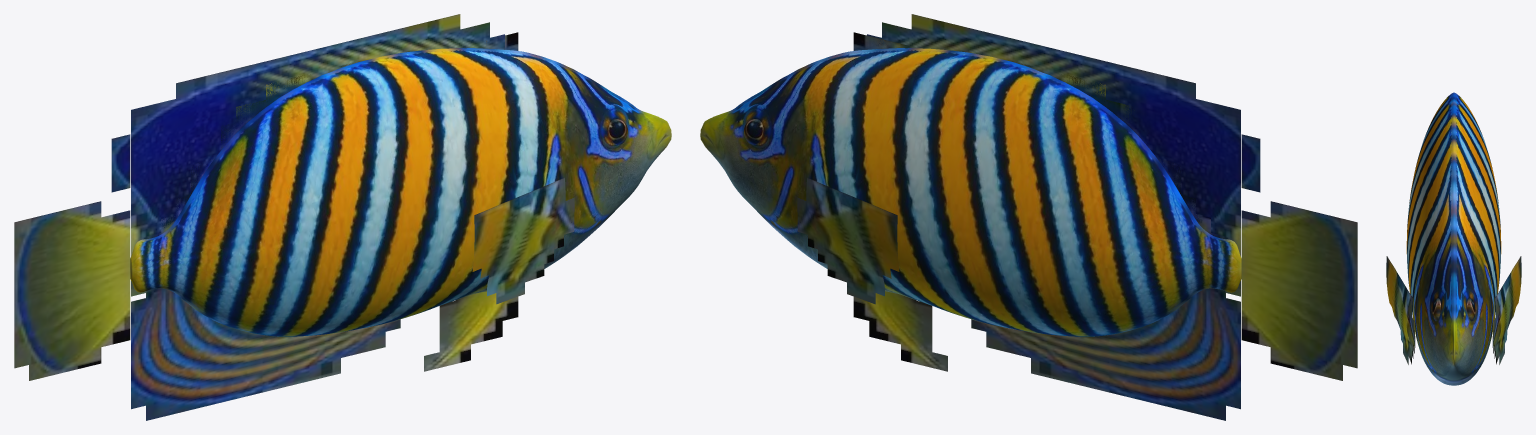
File: real-pygoplites_diacanthus.glb
3 views of the same model, side by side, from view 1: azimuth 30°, elevation 25°; view 2: azimuth 150°, elevation 25°; view 3: azimuth 270°, elevation 25° (orthographic). The views are drawn at different scales.
Visible parts, largest first — view 1: pygoplites_diacanthus; view 2: pygoplites_diacanthus; view 3: pygoplites_diacanthus.
Boxes of the visible parts, left/top/right/bottom form: pygoplites_diacanthus: left=14, top=14, right=671, bottom=420; pygoplites_diacanthus: left=700, top=14, right=1357, bottom=420; pygoplites_diacanthus: left=1386, top=92, right=1521, bottom=385.
Bounding box in the file's own units: 0.2504 × 0.127 × 0.0548.
Materials: 1 (1 with a texture image).
